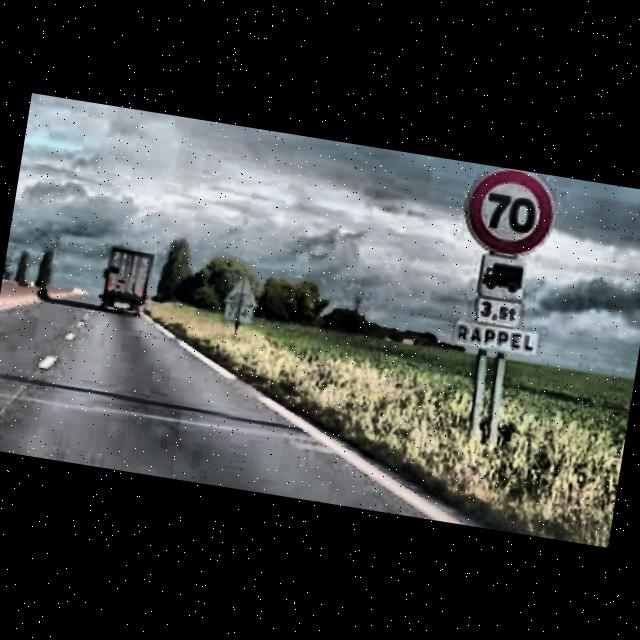speed_70: (460, 162, 560, 263)
